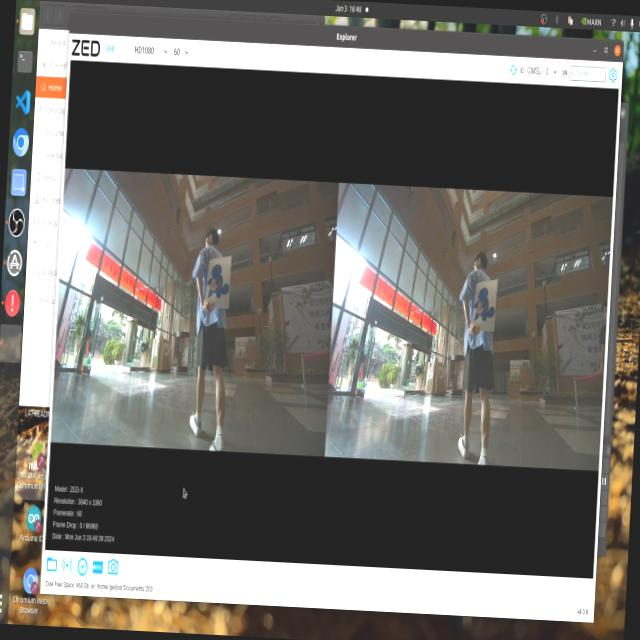blue: (465, 280, 498, 332), (209, 258, 227, 296)
